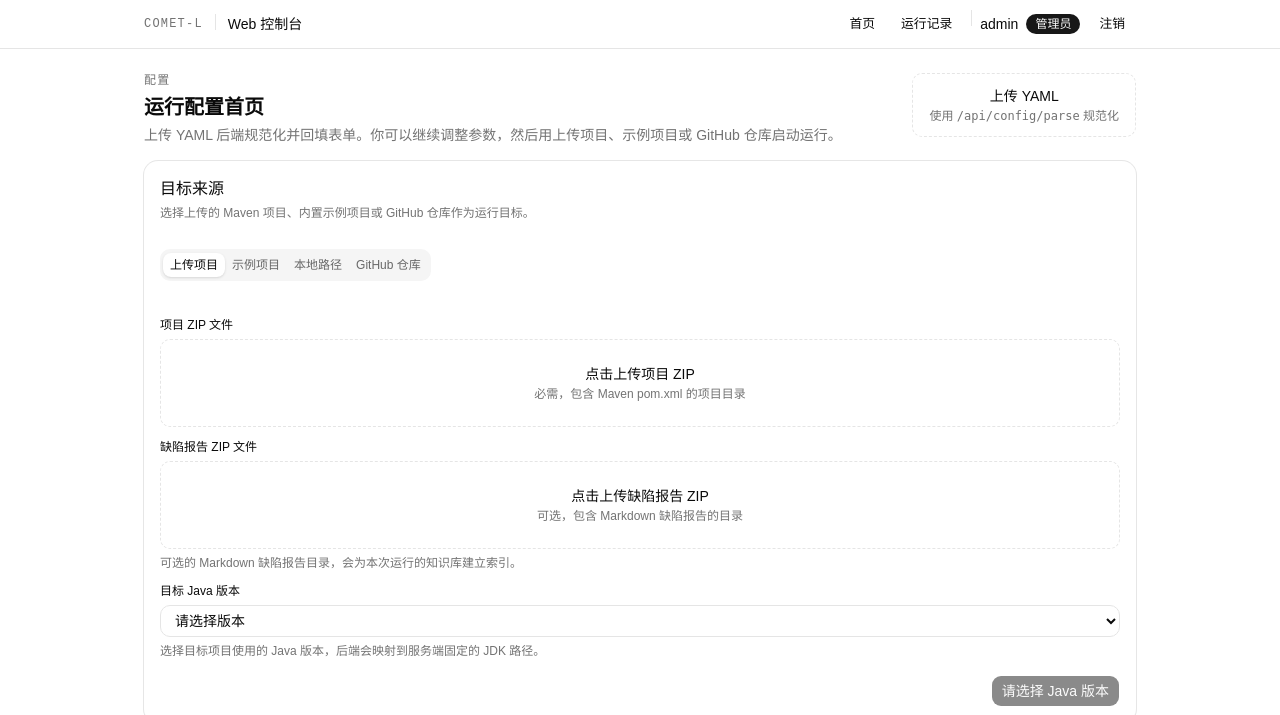
it: HomePage admin local path and GitHub modes › shows admin restriction notice in local path mode
Expected: the file field named "上传项目 ZIP" is shown, [160,318,233,332]
Click the tab "本地路径" at (318, 265), box [287,253,349,277]
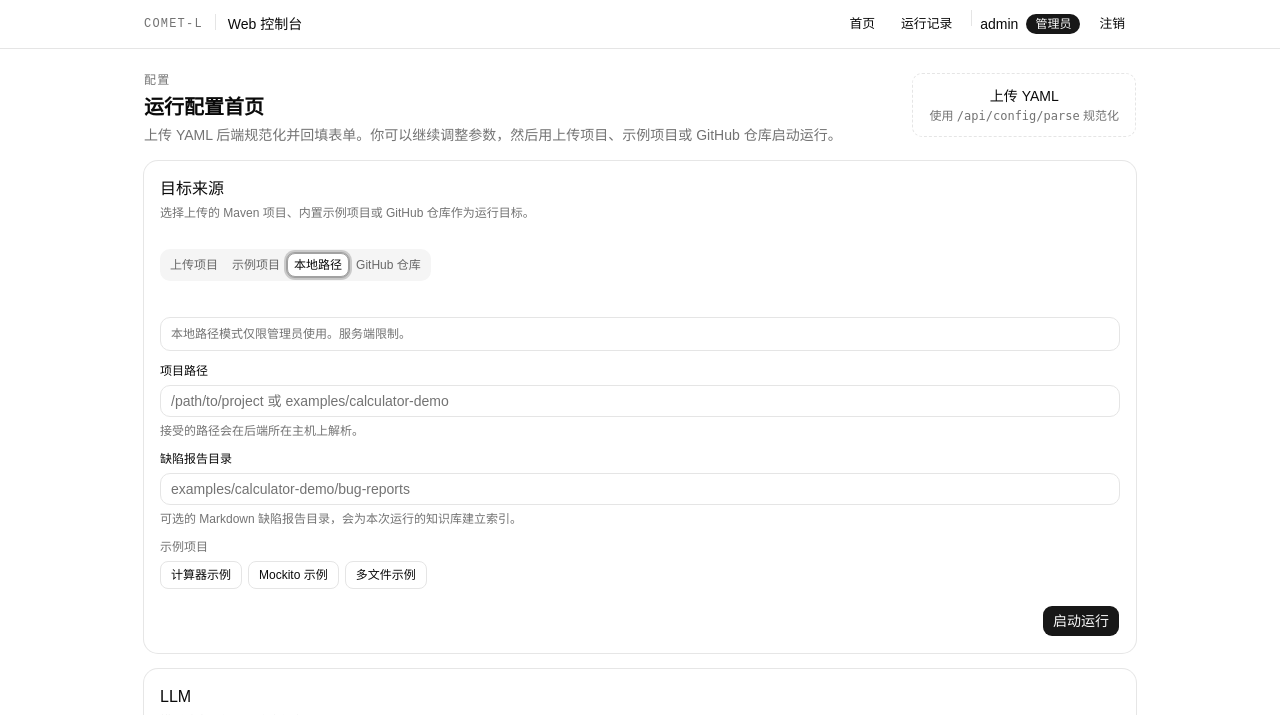
Now the text "本地路径模式仅限管理员使用。服务端限制。" is shown, box [171,327,411,341]
Now the field labelled "项目路径" is shown, box [160,385,1120,417]
